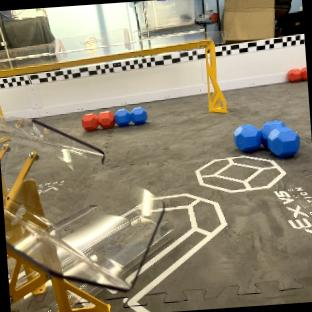V5_BLUE: (233, 119, 299, 157), (115, 107, 146, 125)
V5_RED: (81, 110, 114, 131), (287, 67, 307, 81)
